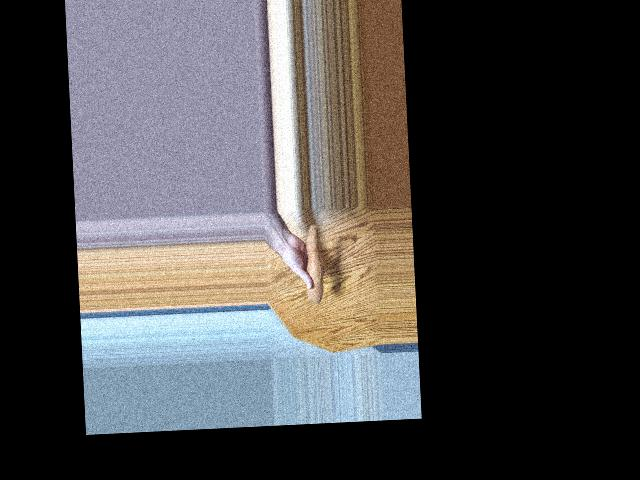sweet_potato: (300, 224, 326, 300)
